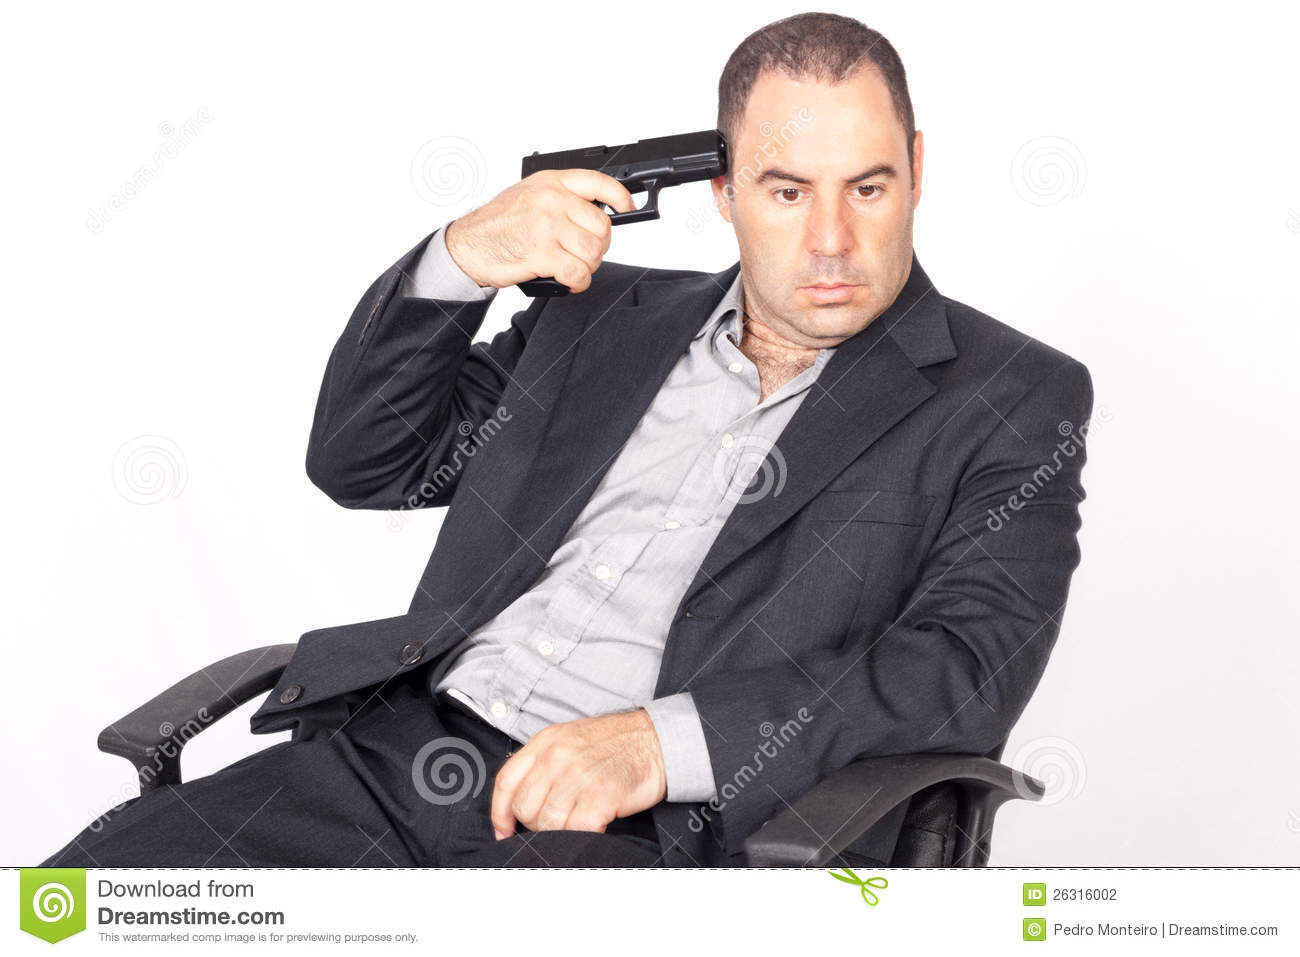pistol: (518, 129, 729, 298)
